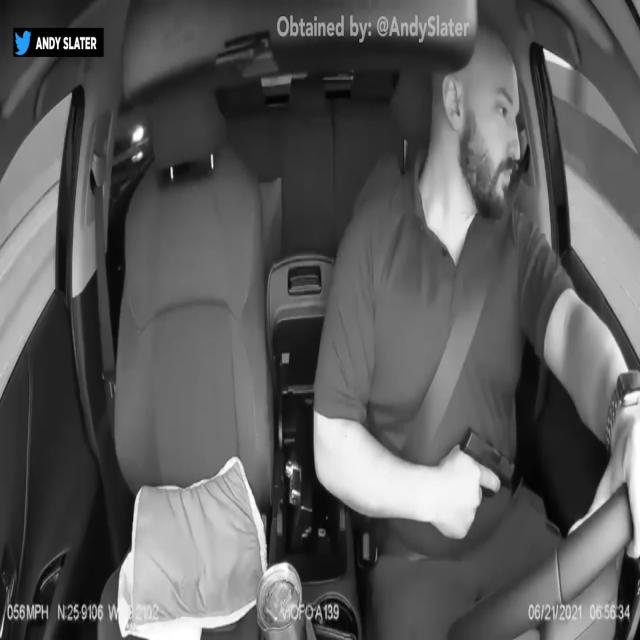senjata_api: (460, 427, 514, 498)
